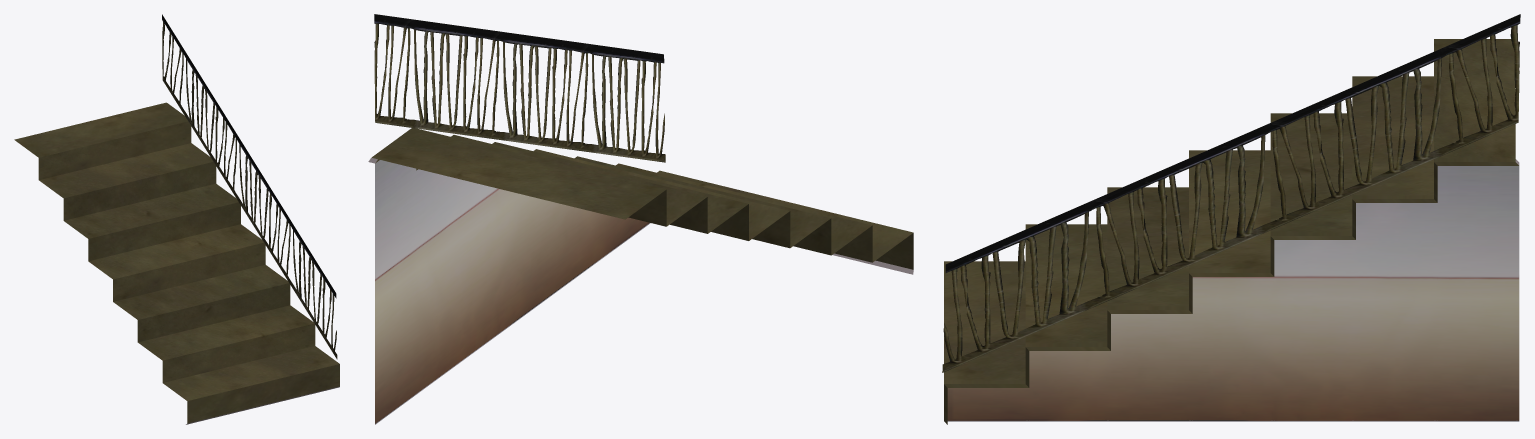
Rendered from ModularAssets_Stairs.fbx.
3 views of the same model, side by side, from view 1: azimuth 30°, elevation 25°; view 2: azimuth 150°, elevation 25°; view 3: azimuth 270°, elevation 25° (orthographic). The views are drawn at different scales.
Parts seen in each view (by area): view 1: Stairs; view 2: Stairs; view 3: Stairs.
Part boxes in pixels (<box>): Stairs: <box>14,14,339,424</box>; Stairs: <box>368,14,913,424</box>; Stairs: <box>942,14,1520,424</box>.
Size of the model in its own units: 411 by 630 by 809.
